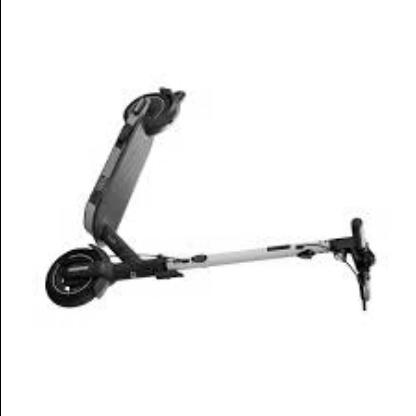bike: (45, 86, 376, 311)
